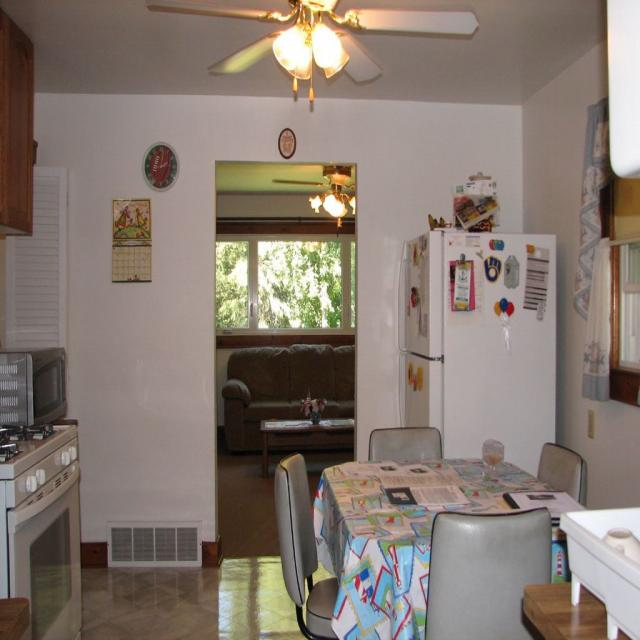Bulb: (146, 0, 479, 103), (272, 166, 357, 237)
